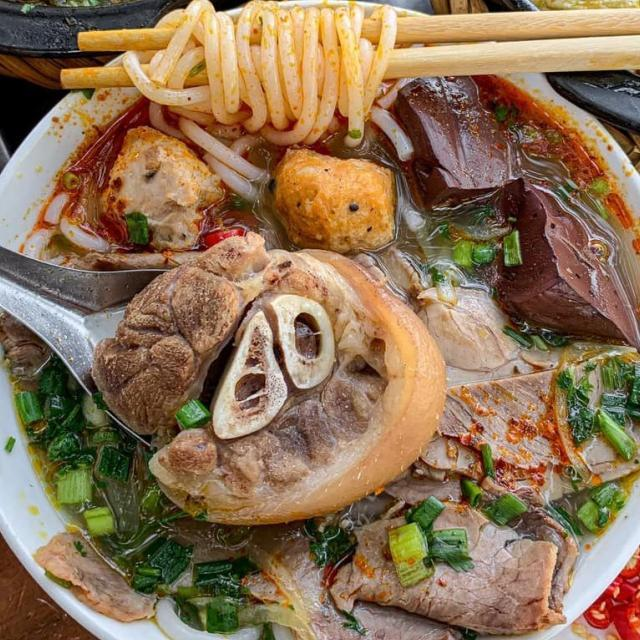bun: (118, 0, 419, 213), (153, 561, 390, 640), (10, 180, 115, 290)
bun bo: (20, 0, 640, 640)
thit bo: (388, 341, 640, 517), (337, 490, 586, 640), (232, 512, 469, 640), (26, 508, 171, 629)
thit heo: (403, 277, 624, 386)
